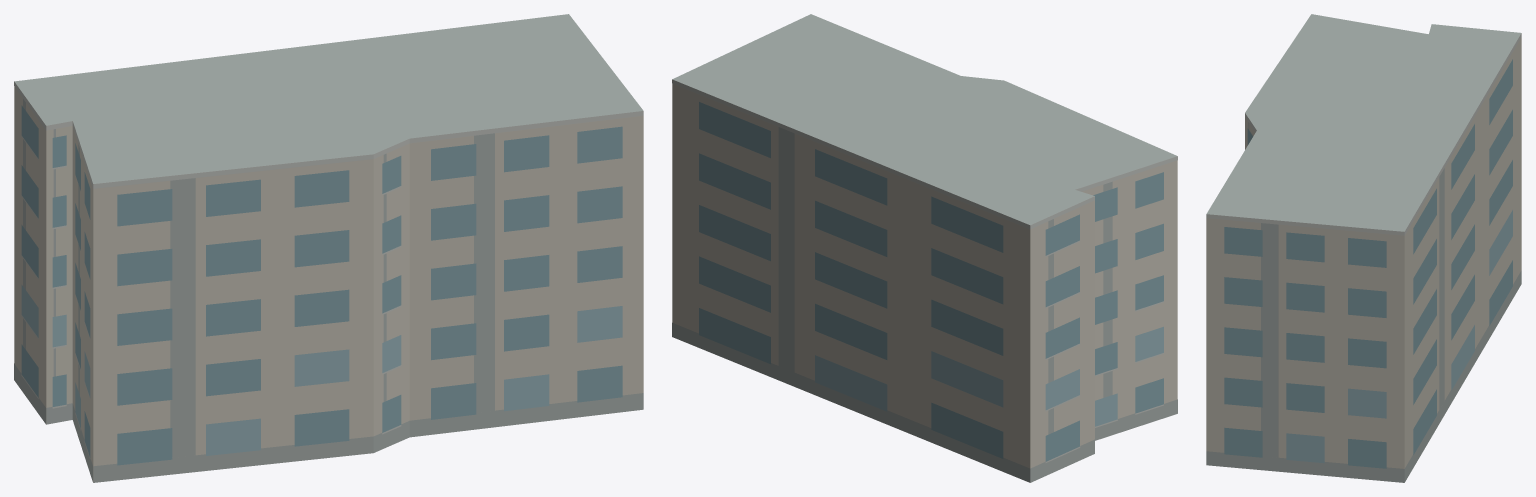
Rendered from survey-upis-32798632.glb.
3 views of the same model, side by side, from view 1: azimuth 30°, elevation 25°; view 2: azimuth 150°, elevation 25°; view 3: azimuth 270°, elevation 25° (orthographic). The views are drawn at different scales.
Parts seen in each view (by area): view 1: survey-upis-32798632.tmp; view 2: survey-upis-32798632.tmp; view 3: survey-upis-32798632.tmp.
Part boxes in pixels (box(x1,y1,x2,y2)): survey-upis-32798632.tmp: box(14, 14, 643, 482); survey-upis-32798632.tmp: box(672, 14, 1177, 482); survey-upis-32798632.tmp: box(1206, 14, 1521, 482).
Size of the model in its own units: 28.38 by 15.25 by 17.36.
